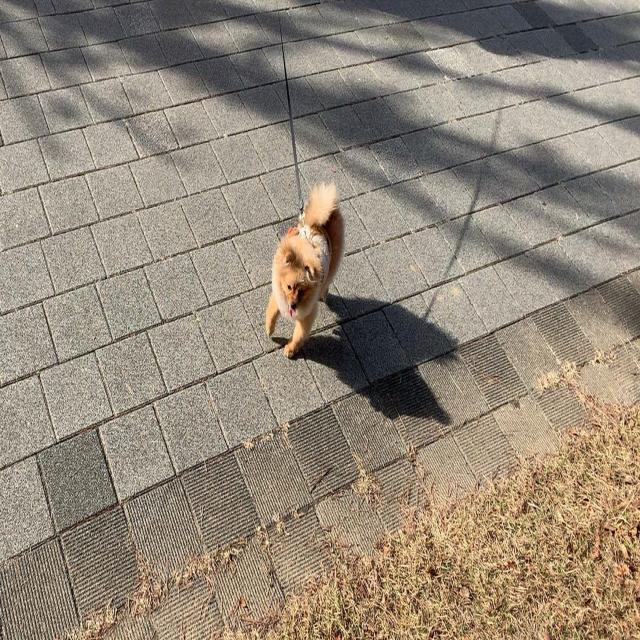Dog: (262, 177, 348, 362)
